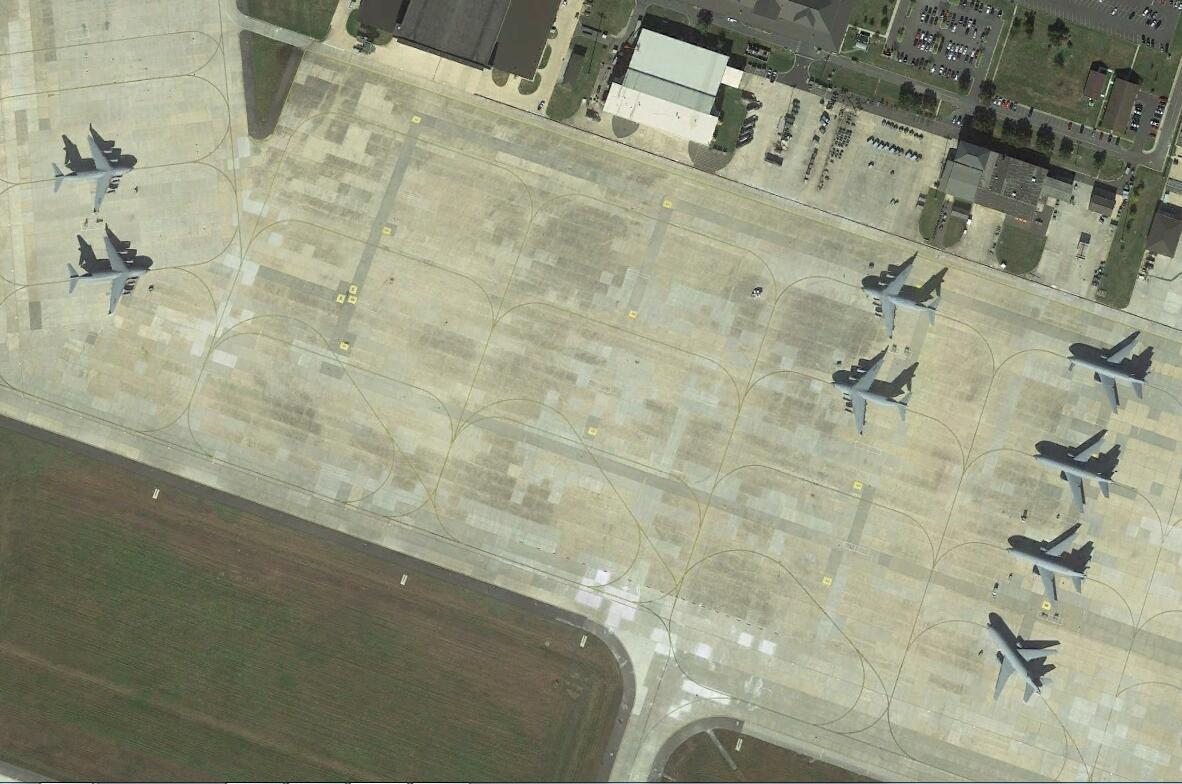A18: (1066, 323, 1156, 413), (1034, 427, 1123, 517), (1002, 524, 1096, 607), (977, 614, 1058, 707)
A3: (50, 127, 138, 218), (861, 252, 949, 340), (830, 349, 918, 436), (65, 234, 157, 315)
